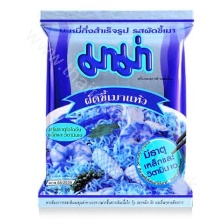snack: (27, 2, 200, 214)
